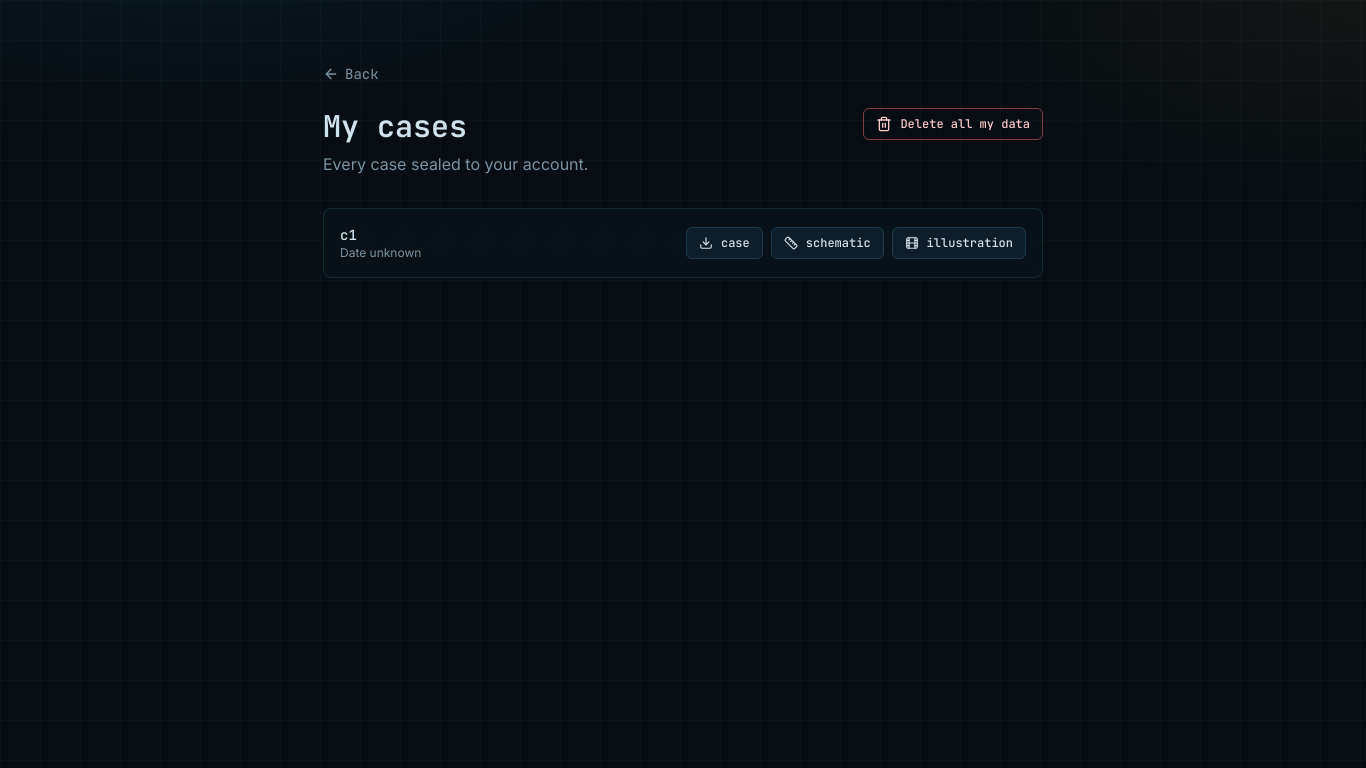
Scenario: <MyCases /> — delete all my data › clears the pending auto-dismiss timer on unmount without throwing
Check: the text "c1" is shown, box [340,226,357,244]
Click the button "Delete all my data".
click(953, 124)  # box [863,108,1043,140]
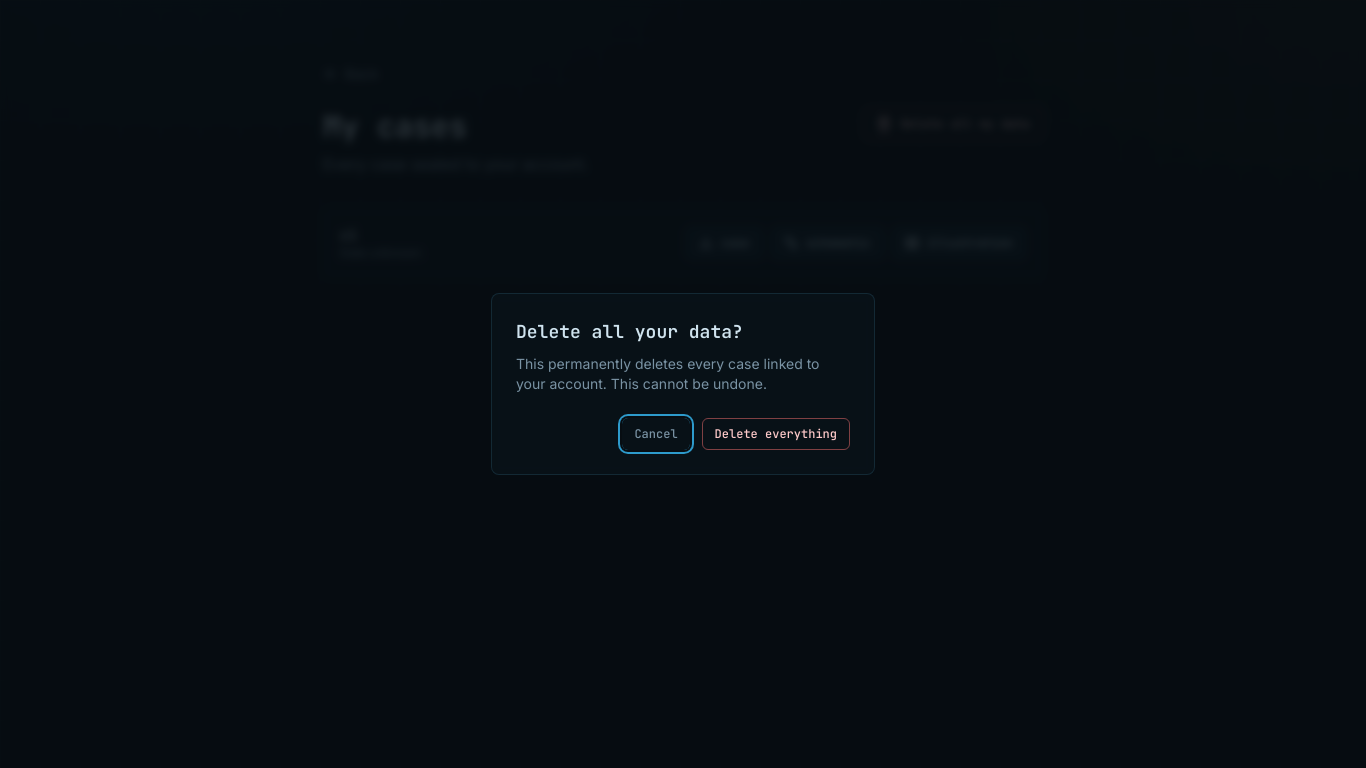
Click the button "Delete everything".
click(776, 434)  # box [702,418,850,450]
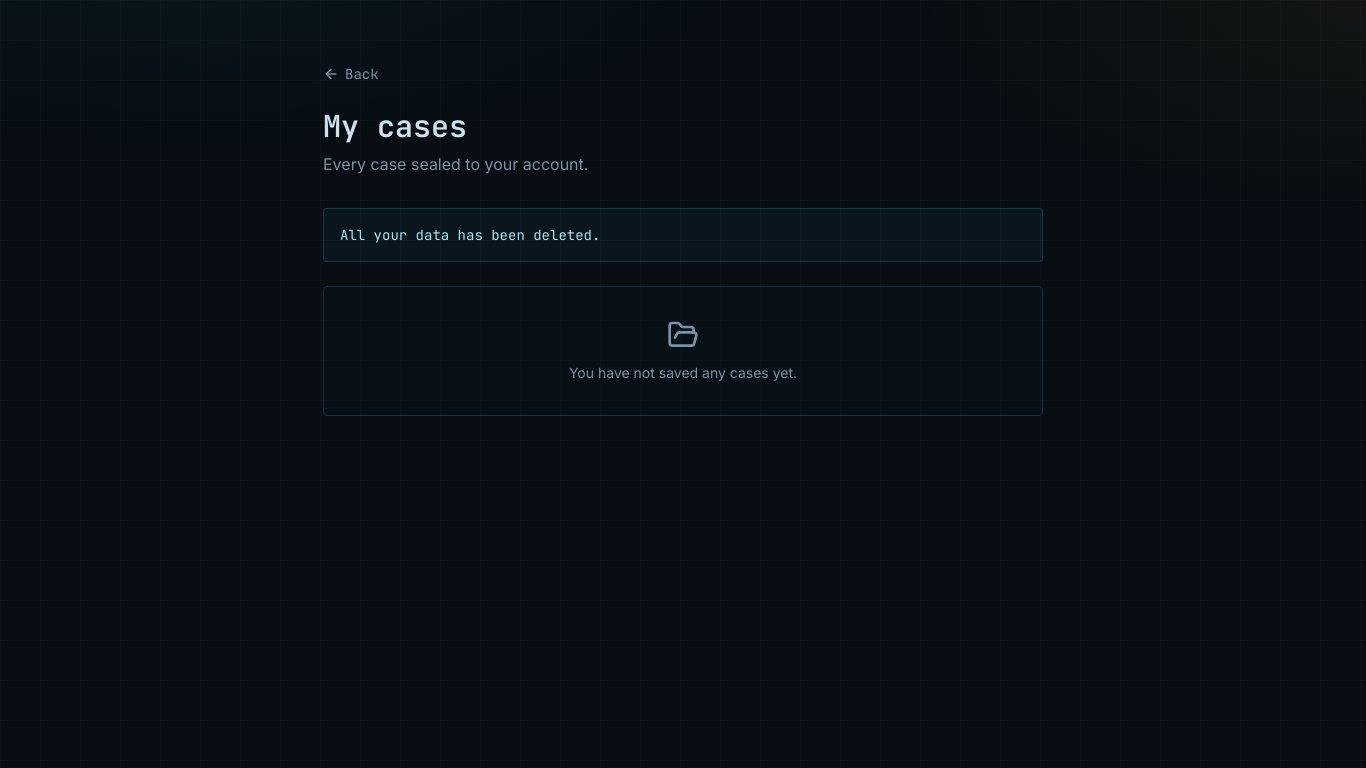
Check: the text "All your data has been deleted." is shown, box [323,208,1043,262]
